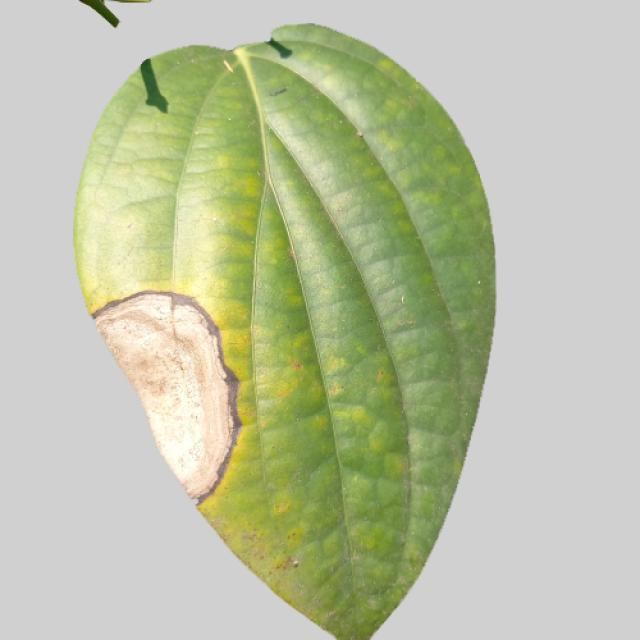leaf-blight: (71, 22, 496, 640)
